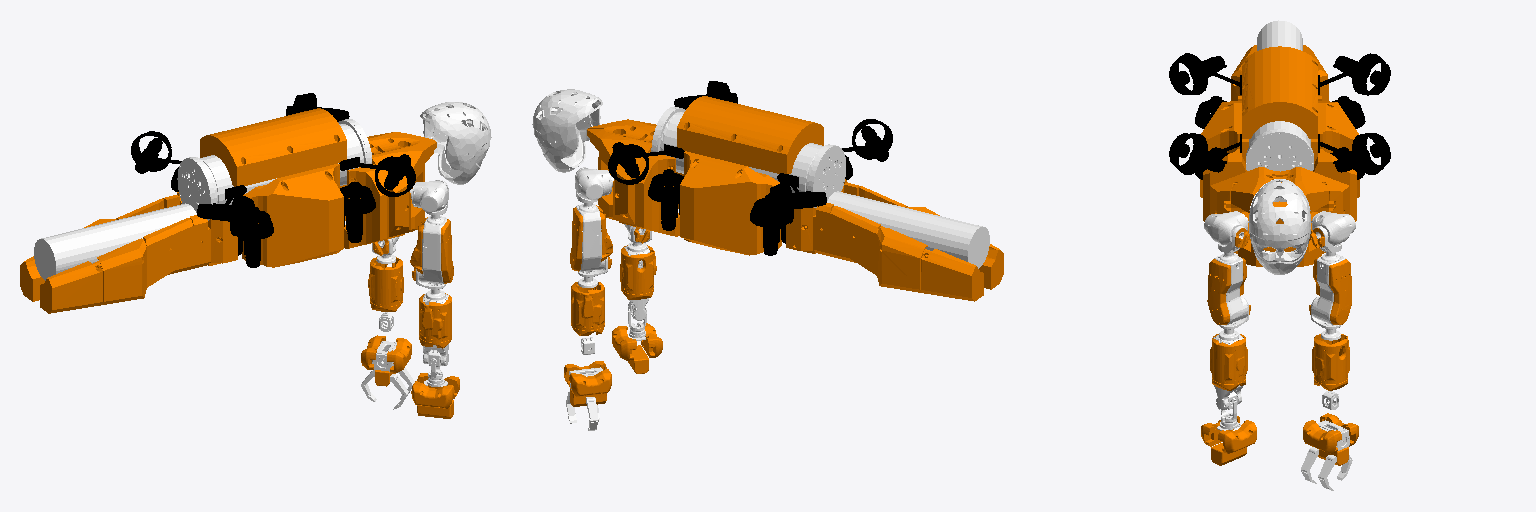
--- What the picture shows (computed from the rendered views, not written in the file) ---
3 views of the same robot in one strip: view 1: azimuth 30°, elevation 25°; view 2: azimuth 150°, elevation 25°; view 3: azimuth 270°, elevation 25° (orthographic).
Model panda with 37 links and 36 joints (17 revolute, 3 prismatic, 16 fixed), rooted at base_link, posed every joint at zero.
Visible links, largest first — view 1: base_link6f, base_link6, base_link6f1, left_link5f, right_link8f, right_link5f, left_link8f, right_link3, left_link8, right_link3f, right_link1; view 2: base_link6f, base_link6, base_link6f1, left_link5f, right_link5f, right_link8f, left_link8f, left_link3, left_link3f, left_link1, left_link8; view 3: base_link6f, base_link6, base_link6f1, left_link5f, right_link5f, right_link8f, left_link8f, right_link3f, left_link3f, left_link8, right_link1, left_link1 (+2 smaller).
Link boxes in pixels (left/top/right/bottom): base_link6f: left=20, top=108, right=436, bottom=313; base_link6: left=34, top=102, right=491, bottom=280; base_link6f1: left=131, top=93, right=415, bottom=267; left_link5f: left=368, top=257, right=403, bottom=311; right_link8f: left=411, top=373, right=459, bottom=418; right_link5f: left=419, top=293, right=451, bottom=348; left_link8f: left=361, top=335, right=411, bottom=386; right_link3: left=419, top=216, right=446, bottom=283; left_link8: left=361, top=341, right=414, bottom=409; right_link3f: left=410, top=217, right=453, bottom=283; right_link1: left=410, top=181, right=447, bottom=212; base_link6f: left=587, top=96, right=1003, bottom=301; base_link6: left=532, top=89, right=989, bottom=268; base_link6f1: left=608, top=81, right=892, bottom=255; left_link5f: left=571, top=282, right=604, bottom=335; right_link5f: left=620, top=245, right=656, bottom=299; right_link8f: left=612, top=323, right=662, bottom=373; left_link8f: left=564, top=361, right=611, bottom=406; left_link3: left=576, top=204, right=604, bottom=271; left_link3f: left=570, top=205, right=612, bottom=271; left_link1: left=576, top=169, right=613, bottom=199; left_link8: left=566, top=367, right=602, bottom=430; base_link6f: left=1200, top=45, right=1359, bottom=266; base_link6: left=1246, top=20, right=1313, bottom=274; base_link6f1: left=1169, top=53, right=1390, bottom=179; left_link5f: left=1312, top=334, right=1349, bottom=390; right_link5f: left=1210, top=334, right=1247, bottom=390; right_link8f: left=1201, top=416, right=1256, bottom=465; left_link8f: left=1303, top=413, right=1358, bottom=465; right_link3f: left=1207, top=258, right=1246, bottom=324; left_link3f: left=1313, top=258, right=1351, bottom=324; left_link8: left=1301, top=420, right=1352, bottom=490; right_link1: left=1204, top=211, right=1248, bottom=244; left_link1: left=1311, top=211, right=1355, bottom=244.
Size in the robot's own frame: 1.96 by 0.8057 by 1.36 metres.
Meshes: 29 distinct files referenced, 26 mesh visuals loaded (26 binary STL); not drawn: 3 (reference not matched to a file when rendering).

The robot description file, URDF, robot "panda":
<?xml version="1.0"?>
<robot name="panda" 
  xmlns:xacro="http://www.ros.org/wiki/xacro">
  <link name="base_link">
    <visual>
      <geometry>
        <box size="0.01 0.01 0.01"/>
      </geometry>
      <material name="blue"/>
    </visual>
    <collision>
      <geometry>
        <box size="0.01 0.01 0.01"/>
      </geometry>
      <material name="grey"/>
    </collision>
    <inertial>
      <mass value="0"/>
      <origin xyz="0 0 0" rpy="0 0 0"/>
      <inertia ixx="0.00001" ixy="0.0" ixz="0.0" iyy="0.00001" iyz="0.0" izz="0.00001"/>
    </inertial>
  </link>

  <link name="base_link1">
    <visual>
      <geometry>
        <sphere radius="0.02"/>
      </geometry>
      <material name="orange_transparent"/>
    </visual>
    <collision>
      <geometry>
        <sphere radius="0.02"/>
      </geometry>
      <material name="orange_transparent"/>
    </collision>
    <inertial>
      <mass value="0.001"/>
      <origin xyz="0 0 0" rpy="0 0 0"/>
      <inertia ixx="0.00001" ixy="0.0" ixz="0.0" iyy="0.00001" iyz="0.0" izz="0.00001"/>
    </inertial>
  </link>
  <joint name="base_joint1" type="prismatic">
    <safety_controller k_position="100.0" k_velocity="40.0" soft_lower_limit="-2.8973" soft_upper_limit="2.8973"/>
    <origin rpy="0 0 0" xyz="0 0 0"/>
    <parent link="base_link"/>
    <child link="base_link1"/>
    <axis xyz="1 0 0"/>
    <limit effort="87" lower="-2.8973" upper="2.8973" velocity="2.1750"/>
  </joint>

  <link name="base_link2">
    <visual>
      <geometry>
        <sphere radius="0.02"/>
      </geometry>
      <material name="orange_transparent"/>
    </visual>
    <collision>
      <geometry>
        <sphere radius="0.02"/>
      </geometry>
      <material name="orange_transparent"/>
    </collision>
    <inertial>
      <mass value="0.001"/>
      <origin xyz="0 0 0" rpy="0 0 0"/>
      <inertia ixx="0.00001" ixy="0.0" ixz="0.0" iyy="0.00001" iyz="0.0" izz="0.00001"/>
    </inertial>
  </link>
  <joint name="base_joint2" type="prismatic">
    <safety_controller k_position="100.0" k_velocity="40.0" soft_lower_limit="-2.8973" soft_upper_limit="2.8973"/>
    <origin rpy="0 0 0" xyz="0 0 0"/>
    <parent link="base_link1"/>
    <child link="base_link2"/>
    <axis xyz="0 1 0"/>
    <limit effort="87" lower="-2.8973" upper="2.8973" velocity="2.1750"/>
  </joint>

  <link name="base_link3">
    <visual>
      <geometry>
        <sphere radius="0.02"/>
      </geometry>
      <material name="orange_transparent"/>
    </visual>
    <collision>
      <geometry>
        <sphere radius="0.02"/>
      </geometry>
      <material name="orange_transparent"/>
    </collision>
    <inertial>
      <mass value="0.001"/>
      <origin xyz="0 0 0" rpy="0 0 0"/>
      <inertia ixx="0.00001" ixy="0.0" ixz="0.0" iyy="0.00001" iyz="0.0" izz="0.00001"/>
    </inertial>
  </link>
  <joint name="base_joint3" type="prismatic">
    <safety_controller k_position="100.0" k_velocity="40.0" soft_lower_limit="-2.8973" soft_upper_limit="2.8973"/>
    <origin rpy="0 0 0" xyz="0 0 0"/>
    <parent link="base_link2"/>
    <child link="base_link3"/>
    <axis xyz="0 0 1"/>
    <limit effort="87" lower="-2.8973" upper="2.8973" velocity="2.1750"/>
  </joint>

  <link name="base_link4">
    <visual>
      <geometry>
        <sphere radius="0.02"/>
      </geometry>
      <material name="orange_transparent"/>
    </visual>
    <collision>
      <geometry>
        <sphere radius="0.02"/>
      </geometry>
      <material name="orange_transparent"/>
    </collision>
    <inertial>
      <mass value="0.001"/>
      <origin xyz="0 0 0" rpy="0 0 0"/>
      <inertia ixx="0.00001" ixy="0.0" ixz="0.0" iyy="0.00001" iyz="0.0" izz="0.00001"/>
    </inertial>
  </link>
  <joint name="base_joint4" type="revolute">
    <safety_controller k_position="100.0" k_velocity="40.0" soft_lower_limit="-2.8973" soft_upper_limit="2.8973"/>
    <origin rpy="0 0 0" xyz="0 0 0"/>
    <parent link="base_link3"/>
    <child link="base_link4"/>
    <axis xyz="1 0 0"/>
    <limit effort="87" lower="-2.8973" upper="2.8973" velocity="2.1750"/>
  </joint>

  <link name="base_link5">
    <visual>
      <geometry>
        <sphere radius="0.02"/>
      </geometry>
      <material name="orange_transparent"/>
    </visual>
    <collision>
      <geometry>
        <sphere radius="0.02"/>
      </geometry>
      <material name="orange_transparent"/>
    </collision>
    <inertial>
      <mass value="0.001"/>
      <origin xyz="0 0 0" rpy="0 0 0"/>
      <inertia ixx="0.00001" ixy="0.0" ixz="0.0" iyy="0.00001" iyz="0.0" izz="0.00001"/>
    </inertial>
  </link>
  <joint name="base_joint5" type="revolute">
    <safety_controller k_position="100.0" k_velocity="40.0" soft_lower_limit="-2.8973" soft_upper_limit="2.8973"/>
    <origin rpy="0 0 0" xyz="0 0 0"/>
    <parent link="base_link4"/>
    <child link="base_link5"/>
    <axis xyz="0 1 0"/>
    <limit effort="87" lower="-2.8973" upper="2.8973" velocity="2.1750"/>
  </joint>

  <link name="base_link6">
    <visual>
      <geometry>
        <mesh filename="meshes/base_cylinder.stl"/>
      </geometry>
      <material name="grey"/>
    </visual>
    <collision>
      <geometry>
        <mesh filename="meshes/base_cylinder.stl"/>
      </geometry>
      <material name="grey"/>
    </collision>
    <inertial>
      <mass value="173.2"/>
      <origin xyz="0 0 0" rpy="0 0 0"/>
      <inertia ixx="5.45" ixy="0.474" ixz="2.51" iyy="41.54" iyz="0.108" izz="40.93"/>
    </inertial>
  </link>
  <joint name="base_joint6" type="revolute">
    <safety_controller k_position="100.0" k_velocity="40.0" soft_lower_limit="-2.8973" soft_upper_limit="2.8973"/>
    <origin rpy="0 0 0" xyz="0 0 0"/>
    <parent link="base_link5"/>
    <child link="base_link6"/>
    <axis xyz="0 0 1"/>
    <limit effort="87" lower="-2.8973" upper="2.8973" velocity="2.1750"/>
  </joint>

  <link name="base_link6f">
    <visual>
      <geometry>
        <mesh filename="meshes/base_foam.stl"/>
      </geometry>
      <material name="orange"/>
    </visual>
    <collision>
      <geometry>
        <mesh filename="meshes/base_foam.stl"/>
      </geometry>
      <material name="orange"/>
    </collision>
    <inertial>
      <mass value="0.001"/>
      <origin xyz="0 0 0" rpy="0 0 0"/>
      <inertia ixx="0.00001" ixy="0.0" ixz="0.0" iyy="0.00001" iyz="0.0" izz="0.00001"/>
    </inertial>
  </link>
  <joint name="base_fixed6f" type="fixed">
    <safety_controller k_position="100.0" k_velocity="40.0" soft_lower_limit="-2.8973" soft_upper_limit="2.8973"/>
    <origin rpy="0 0 0" xyz="0 0 0"/>
    <parent link="base_link6"/>
    <child link="base_link6f"/>
    <axis xyz="0 0 1"/>
    <limit effort="87" lower="-2.8973" upper="2.8973" velocity="2.1750"/>
  </joint>

  <link name="base_link6f1">
    <visual>
      <geometry>
        <mesh filename="meshes/base_thrusters.stl"/>
      </geometry>
      <material name="black"/>
    </visual>
    <collision>
      <geometry>
        <mesh filename="meshes/base_thrusters.stl"/>
      </geometry>
      <material name="black"/>
    </collision>
    <inertial>
      <mass value="0.001"/>
      <origin xyz="0 0 0" rpy="0 0 0"/>
      <inertia ixx="0.00001" ixy="0.0" ixz="0.0" iyy="0.00001" iyz="0.0" izz="0.00001"/>
    </inertial>
  </link>
  <joint name="base_fixed6f1" type="fixed">
    <safety_controller k_position="100.0" k_velocity="40.0" soft_lower_limit="-2.8973" soft_upper_limit="2.8973"/>
    <origin rpy="0 0 0" xyz="0 0 0"/>
    <parent link="base_link6f"/>
    <child link="base_link6f1"/>
    <axis xyz="0 0 1"/>
    <limit effort="87" lower="-2.8973" upper="2.8973" velocity="2.1750"/>
  </joint>

  <!-- ////////////////////////////////////RIGHT//////////////////////////////////// -->
  <link name="right_chassis">
    <visual>
      <geometry>
        <sphere radius="0.02"/>
      </geometry>
      <material name="red_transparent"/>
    </visual>
    <collision>
      <geometry>
        <sphere radius="0.02"/>
      </geometry>
      <material name="red_transparent"/>
    </collision>
    <inertial>
      <mass value="0.001"/>
      <origin xyz="0 0 0" rpy="0 0 0"/>
      <inertia ixx="0.00001" ixy="0.0" ixz="0.0" iyy="0.00001" iyz="0.0" izz="0.00001"/>
    </inertial>
  </link>
  <joint name="right_fixed_chassis" type="fixed">
    <safety_controller k_position="100.0" k_velocity="40.0" soft_lower_limit="-2.8973" soft_upper_limit="2.8973"/>
    <origin rpy="0 0 0.785398" xyz="0.58 -0.2 0"/>
    <parent link="base_link6"/>
    <child link="right_chassis"/>
    <axis xyz="0 0 1"/>
    <limit effort="87" lower="-2.8973" upper="2.8973" velocity="2.1750"/>
  </joint>

  <link name="right_link1">
    <visual>
      <geometry>
        <mesh filename="meshes/right_link1.stl"/>
      </geometry>
      <material name="grey"/>
    </visual>
    <collision>
      <geometry>
        <mesh filename="meshes/right_link1.stl"/>
      </geometry>
      <material name="grey"/>
    </collision>
    <inertial>
      <mass value="3.21"/>
      <origin xyz="0.000060 0.018000 -0.030000" rpy="0 0 0"/>
      <inertia ixx="0.006330" ixy="-0.000006" ixz="0.000003" iyy="0.005220" iyz="-0.000802" izz="0.003480"/>
    </inertial>
  </link>
  <joint name="right_joint1" type="revolute">
    <safety_controller k_position="100.0" k_velocity="40.0" soft_lower_limit="-2.8973" soft_upper_limit="2.8973"/>
    <origin rpy="0 1.5707963 -1.5707963" xyz="0 0 0"/>
    <parent link="right_chassis"/>
    <child link="right_link1"/>
    <axis xyz="0 0 1"/>
    <limit effort="87" lower="-2.8973" upper="2.8973" velocity="2.1750"/>
  </joint>

  <link name="right_link2">
    <visual>
      <geometry>
        <mesh filename="meshes/right_link2.stl"/>
      </geometry>
      <material name="grey"/>
    </visual>
    <collision>
      <geometry>
        <mesh filename="meshes/right_link2.stl"/>
      </geometry>
      <material name="grey"/>
    </collision>
    <inertial>
      <mass value="0.99"/>
      <origin xyz="-0.000070 -0.054100 -0.020980" rpy="0 0 0"/>
      <inertia ixx="0.002398" ixy="0.000019" ixz="-0.000008" iyy="0.001195" iyz="0.000886" izz="0.001878"/>
    </inertial>
  </link>
  <joint name="right_joint2" type="revolute">
    <safety_controller k_position="100.0" k_velocity="40.0" soft_lower_limit="-2.8973" soft_upper_limit="2.8973"/>
    <origin rpy="0 -1.5707963 1.5707963" xyz="0 0.0204332 0"/>
    <parent link="right_link1"/>
    <child link="right_link2"/>
    <axis xyz="0 0 1"/>
    <limit effort="87" lower="-2.8973" upper="2.8973" velocity="2.1750"/>
  </joint>

  <link name="right_link3">
    <visual>
      <geometry>
        <mesh filename="meshes/right_link3.stl"/>
      </geometry>
      <material name="grey"/>
    </visual>
    <collision>
      <geometry>
        <mesh filename="meshes/right_link3.stl"/>
      </geometry>
      <material name="grey"/>
    </collision>
    <inertial>
      <mass value="5.11"/>
      <origin xyz="0.008960 0.013300 -0.092400" rpy="0 0 0"/>
      <inertia ixx="0.019800" ixy="-0.000151" ixz="0.000153" iyy="0.018700" iyz="-0.001380" izz="0.005560"/>
    </inertial>
  </link>
  <joint name="right_joint3" type="revolute">
    <safety_controller k_position="100.0" k_velocity="40.0" soft_lower_limit="-2.8973" soft_upper_limit="2.8973"/>
    <origin rpy="1.5707963 -1.5707963 0" xyz="0 -0.3231333 0"/>
    <parent link="right_link2"/>
    <child link="right_link3"/>
    <axis xyz="0 0 1"/>
    <limit effort="87" lower="-2.8973" upper="2.8973" velocity="2.1750"/>
  </joint>

  <link name="right_link4">
    <visual>
      <geometry>
        <mesh filename="meshes/right_link4.stl"/>
      </geometry>
      <material name="grey"/>
    </visual>
    <collision>
      <geometry>
        <mesh filename="meshes/right_link4.stl"/>
      </geometry>
      <material name="grey"/>
    </collision>
    <inertial>
      <mass value="0.974"/>
      <origin xyz="-0.000980 0.047130 -0.027200" rpy="0 0 0"/>
      <inertia ixx="0.002374" ixy="0.000025" ixz="0.000006" iyy="0.001407" iyz="-0.000920" izz="0.001613"/>
    </inertial>
  </link>
  <joint name="right_joint4" type="revolute">
    <safety_controller k_position="100.0" k_velocity="40.0" soft_lower_limit="-2.8973" soft_upper_limit="2.8973"/>
    <origin rpy="1.5707963 0 0" xyz="0 0.0 0"/>
    <parent link="right_link3"/>
    <child link="right_link4"/>
    <axis xyz="0 0 1"/>
    <limit effort="87" lower="-2.8973" upper="2.8973" velocity="2.1750"/>
  </joint>

  <link name="right_link5">
    <visual>
      <geometry>
        <mesh filename="meshes/right_link5.stl"/>
      </geometry>
      <material name="grey"/>
    </visual>
    <collision>
      <geometry>
        <mesh filename="meshes/right_link5.stl"/>
      </geometry>
      <material name="grey"/>
    </collision>
    <inertial>
      <mass value="3.733"/>
      <origin xyz="0.001980 0.000500 -0.160000" rpy="0 0 0"/>
      <inertia ixx="0.017000" ixy="-0.000058" ixz="0.000177" iyy="0.017700" iyz="0.000080" izz="0.005250"/>
    </inertial>
  </link>
  <joint name="right_joint5" type="revolute">
    <safety_controller k_position="100.0" k_velocity="40.0" soft_lower_limit="-2.8973" soft_upper_limit="2.8973"/>
    <origin rpy="-1.5707963 0 0" xyz="0 0.3579778 0"/>
    <parent link="right_link4"/>
    <child link="right_link5"/>
    <axis xyz="0 0 1"/>
    <limit effort="87" lower="-2.8973" upper="2.8973" velocity="2.1750"/>
  </joint>

  <link name="right_link6">
    <visual>
      <geometry>
        <mesh filename="meshes/right_link6.stl"/>
      </geometry>
      <material name="grey"/>
    </visual>
    <collision>
      <geometry>
        <mesh filename="meshes/right_link6.stl"/>
      </geometry>
      <material name="grey"/>
    </collision>
    <inertial>
      <mass value="0.3"/>
      <origin xyz="0.000000 -0.003430 -0.000010" rpy="0 0 0"/>
      <inertia ixx="0.000115" ixy="-0.000000" ixz="-0.000000" iyy="0.000128" iyz="0.000000" izz="0.000123"/>
    </inertial>
  </link>
  <joint name="right_joint6" type="revolute">
    <safety_controller k_position="100.0" k_velocity="40.0" soft_lower_limit="-2.8973" soft_upper_limit="2.8973"/>
    <origin rpy="0 -1.5707963 1.5707963" xyz="0 0 0"/>
    <parent link="right_link5"/>
    <child link="right_link6"/>
    <axis xyz="0 0 1"/>
    <limit effort="87" lower="-2.8973" upper="2.8973" velocity="2.1750"/>
  </joint>

  <link name="right_link7">
    <visual>
      <geometry>
        <mesh filename="meshes/right_link7.stl"/>
      </geometry>
      <material name="grey"/>
    </visual>
    <collision>
      <geometry>
        <mesh filename="meshes/right_link7.stl"/>
      </geometry>
      <material name="grey"/>
    </collision>
    <inertial>
      <mass value="0.387"/>
      <origin xyz="-0.000160 -0.077160 0.000470" rpy="0 0 0"/>
      <inertia ixx="0.000456" ixy="0.000000" ixz="-0.000000" iyy="0.000195" iyz="-0.000014" izz="0.000417"/>
    </inertial>
  </link>
  <joint name="right_joint7" type="revolute">
    <safety_controller k_position="100.0" k_velocity="40.0" soft_lower_limit="-2.8973" soft_upper_limit="2.8973"/>
    <origin rpy="0 -1.5707963 1.5707963" xyz="0 0 0"/>
    <parent link="right_link6"/>
    <child link="right_link7"/>
    <axis xyz="0 0 1"/>
    <limit effort="87" lower="-2.8973" upper="2.8973" velocity="2.1750"/>
  </joint>

  <link name="right_link8">
    <visual>
      <geometry>
        <mesh filename="meshes/right_link8.stl"/>
      </geometry>
      <material name="grey"/>
    </visual>
    <collision>
      <geometry>
        <mesh filename="meshes/right_link8.stl"/>
      </geometry>
      <material name="grey"/>
    </collision>
    <inertial>
      <mass value="2.5"/>
      <origin xyz="0.000000 0.000000 -0.095000" rpy="0 0 0"/>
      <inertia ixx="0.001158" ixy="0.000000" ixz="0.000000" iyy="0.001708" iyz="0.000000" izz="0.002207"/>
    </inertial>
  </link>
  <joint name="right_fixed8" type="fixed">
    <safety_controller k_position="100.0" k_velocity="40.0" soft_lower_limit="-2.8973" soft_upper_limit="2.8973"/>
    <origin rpy="1.5707963 0 0" xyz="0 -0.23675 0"/>
    <parent link="right_link7"/>
    <child link="right_link8"/>
    <axis xyz="0 0 1"/>
    <limit effort="87" lower="-2.8973" upper="2.8973" velocity="2.1750"/>
  </joint>

  <link name="right_link2f">
    <visual>
      <geometry>
        <mesh filename="meshes/right_link2f.stl"/>
      </geometry>
      <material name="orange"/>
    </visual>
    <collision>
      <geometry>
        <mesh filename="meshes/right_link2.stl"/>
      </geometry>
      <material name="orange"/>
    </collision>
    <inertial>
      <mass value="0.001"/>
      <origin xyz="0 0 0" rpy="0 0 0"/>
      <inertia ixx="0.00001" ixy="0.0" ixz="0.0" iyy="0.00001" iyz="0.0" izz="0.00001"/>
    </inertial>
  </link>
  <joint name="right_fixed2f" type="fixed">
    <safety_controller k_position="100.0" k_velocity="40.0" soft_lower_limit="-2.8973" soft_upper_limit="2.8973"/>
    <origin rpy="0 0 0" xyz="0 0 0"/>
    <parent link="right_link2"/>
    <child link="right_link2f"/>
    <axis xyz="0 0 1"/>
    <limit effort="87" lower="-2.8973" upper="2.8973" velocity="2.1750"/>
  </joint>

  <link name="right_link3f">
    <visual>
      <geometry>
        <mesh filename="meshes/right_link3f.stl"/>
      </geometry>
      <material name="orange"/>
    </visual>
    <collision>
      <geometry>
        <mesh filename="meshes/right_link3f.stl"/>
      </geometry>
      <material name="orange"/>
    </collision>
    <inertial>
      <mass value="0.001"/>
      <origin xyz="0 0 0" rpy="0 0 0"/>
      <inertia ixx="0.00001" ixy="0.0" ixz="0.0" iyy="0.00001" iyz="0.0" izz="0.00001"/>
    </inertial>
  </link>
  <joint name="right_fixed3f" type="fixed">
    <safety_controller k_position="100.0" k_velocity="40.0" soft_lower_limit="-2.8973" soft_upper_limit="2.8973"/>
    <origin rpy="0 0 0" xyz="0 0 0"/>
    <parent link="right_link3"/>
    <child link="right_link3f"/>
    <axis xyz="0 0 1"/>
    <limit effort="87" lower="-2.8973" upper="2.8973" velocity="2.1750"/>
  </joint>

  <link name="right_link4f">
    <visual>
      <geometry>
        <mesh filename="meshes/right_link4f.stl"/>
      </geometry>
      <material name="orange"/>
    </visual>
    <collision>
      <geometry>
        <mesh filename="meshes/right_link4f.stl"/>
      </geometry>
      <material name="orange"/>
    </collision>
    <inertial>
      <mass value="0.001"/>
      <origin xyz="0 0 0" rpy="0 0 0"/>
      <inertia ixx="0.00001" ixy="0.0" ixz="0.0" iyy="0.00001" iyz="0.0" izz="0.00001"/>
    </inertial>
  </link>
  <joint name="right_fixed4f" type="fixed">
    <safety_controller k_position="100.0" k_velocity="40.0" soft_lower_limit="-2.8973" soft_upper_limit="2.8973"/>
    <origin rpy="0 0 0" xyz="0 0 0"/>
    <parent link="right_link4"/>
    <child link="right_link4f"/>
    <axis xyz="0 0 1"/>
    <limit effort="87" lower="-2.8973" upper="2.8973" velocity="2.1750"/>
  </joint>

  <link name="right_link5f">
    <visual>
      <geometry>
        <mesh filename="meshes/right_link5f.stl"/>
      </geometry>
      <material name="orange"/>
    </visual>
    <collision>
      <geometry>
        <mesh filename="meshes/right_link5f.stl"/>
      </geometry>
      <material name="orange"/>
    </collision>
    <inertial>
      <mass value="0.001"/>
      <origin xyz="0 0 0" rpy="0 0 0"/>
      <inertia ixx="0.00001" ixy="0.0" ixz="0.0" iyy="0.00001" iyz="0.0" izz="0.00001"/>
    </inertial>
  </link>
  <joint name="right_fixed5f" type="fixed">
    <safety_controller k_position="100.0" k_velocity="40.0" soft_lower_limit="-2.8973" soft_upper_limit="2.8973"/>
    <origin rpy="0 0 0" xyz="0 0 0"/>
    <parent link="right_link5"/>
    <child link="right_link5f"/>
    <axis xyz="0 0 1"/>
    <limit effort="87" lower="-2.8973" upper="2.8973" velocity="2.1750"/>
  </joint>

  <link name="right_link8f">
    <visual>
      <geometry>
        <mesh filename="meshes/right_link8f.stl"/>
      </geometry>
      <material name="orange"/>
    </visual>
    <collision>
      <geometry>
        <mesh filename="meshes/right_link8f.stl"/>
      </geometry>
      <material name="orange"/>
    </collision>
    <inertial>
      <mass value="0.001"/>
      <origin xyz="0 0 0" rpy="0 0 0"/>
      <inertia ixx="0.00001" ixy="0.0" ixz="0.0" iyy="0.00001" iyz="0.0" izz="0.00001"/>
    </inertial>
  </link>
  <joint name="right_fixed8f" type="fixed">
    <safety_controller k_position="100.0" k_velocity="40.0" soft_lower_limit="-2.8973" soft_upper_limit="2.8973"/>
    <origin rpy="0 0 0" xyz="0 0 0"/>
    <parent link="right_link8"/>
    <child link="right_link8f"/>
    <axis xyz="0 0 1"/>
    <limit effort="87" lower="-2.8973" upper="2.8973" velocity="2.1750"/>
  </joint>

  <!-- ////////////////////////////////////LEFT//////////////////////////////////// -->
  <link name="left_chassis">
    <visual>
      <geometry>
        <sphere radius="0.02"/>
      </geometry>
      <material name="red_transparent"/>
    </visual>
    <collision>
      <geometry>
        <sphere radius="0.02"/>
      </geometry>
      <material name="red_transparent"/>
    </collision>
    <inertial>
      <mass value="0.001"/>
      <origin xyz="0 0 0" rpy="0 0 0"/>
      <inertia ixx="0.00001" ixy="0.0" ixz="0.0" iyy="0.00001" iyz="0.0" izz="0.00001"/>
    </inertial>
  </link>
  <joint name="left_fixed_chassis" type="fixed">
    <safety_controller k_position="100.0" k_velocity="40.0" soft_lower_limit="-2.8973" soft_upper_limit="2.8973"/>
    <origin rpy="0 0 -0.785398" xyz="0.58 0.2 0"/>
    <parent link="base_link6"/>
    <child link="left_chassis"/>
    <axis xyz="0 0 1"/>
    <limit effort="87" lower="-2.8973" upper="2.8973" velocity="2.1750"/>
  </joint>

  <link name="left_link1">
    <visual>
      <geometry>
        <mesh filename="meshes/left_link1.stl"/>
      </geometry>
      <material name="grey"/>
    </visual>
    <collision>
      <geometry>
        <mesh filename="meshes/left_link1.stl"/>
      </geometry>
      <material name="grey"/>
    </collision>
    <inertial>
      <mass value="3.21"/>
      <origin xyz="0.000060 0.018000 0.030000" rpy="0 0 0"/>
      <inertia ixx="0.006330" ixy="-0.000006" ixz="-0.000003" iyy="0.005220" iyz="0.000802" izz="0.003480"/>
    </inertial>
  </link>
  <joint name="left_joint1" type="revolute">
    <safety_controller k_position="100.0" k_velocity="40.0" soft_lower_limit="-2.8973" soft_upper_limit="2.8973"/>
    <origin rpy="0 1.5707963 -1.5707963" xyz="0 0 0"/>
    <parent link="left_chassis"/>
    <child link="left_link1"/>
    <axis xyz="0 0 1"/>
    <limit effort="87" lower="-2.8973" upper="2.8973" velocity="2.1750"/>
  </joint>

  <link name="left_link2">
    <visual>
      <geometry>
        <mesh filename="meshes/left_link2.stl"/>
      </geometry>
      <material name="grey"/>
    </visual>
    <collision>
      <geometry>
        <mesh filename="meshes/left_link2.stl"/>
      </geometry>
      <material name="grey"/>
    </collision>
    <inertial>
      <mass value="0.99"/>
      <origin xyz="0.000070 -0.054100 -0.020980" rpy="0 0 0"/>
      <inertia ixx="0.002398" ixy="-0.000019" ixz="0.000008" iyy="0.001195" iyz="0.000886" izz="0.001878"/>
    </inertial>
  </link>
  <joint name="left_joint2" type="revolute">
    <safety_controller k_position="100.0" k_velocity="40.0" soft_lower_limit="-2.8973" soft_upper_limit="2.8973"/>
    <origin rpy="0 -1.5707963 1.5707963" xyz="0 0.0204332 0"/>
    <parent link="left_link1"/>
    <child link="left_link2"/>
    <axis xyz="0 0 1"/>
    <limit effort="87" lower="-2.8973" upper="2.8973" velocity="2.1750"/>
  </joint>

  <link name="left_link3">
    <visual>
      <geometry>
        <mesh filename="meshes/left_link3.stl"/>
      </geometry>
      <material name="grey"/>
    </visual>
    <collision>
      <geometry>
        <mesh filename="meshes/left_link3.stl"/>
      </geometry>
      <material name="grey"/>
    </collision>
    <inertial>
      <mass value="5.11"/>
      <origin xyz="0.008960 -0.013300 -0.092400" rpy="0 0 0"/>
      <inertia ixx="0.019800" ixy="0.000151" ixz="0.000153" iyy="0.018700" iyz="0.001380" izz="0.005560"/>
    </inertial>
  </link>
  <joint name="left_joint3" type="revolute">
    <safety_controller k_position="100.0" k_velocity="40.0" soft_lower_limit="-2.8973" soft_upper_limit="2.8973"/>
    <origin rpy="1.5707963 -1.5707963 0" xyz="0 -0.3231333 0"/>
    <parent link="left_link2"/>
    <child link="left_link3"/>
    <axis xyz="0 0 1"/>
    <limit effort="87" lower="-2.8973" upper="2.8973" velocity="2.1750"/>
  </joint>

  <link name="left_link4">
    <visual>
      <geometry>
        <mesh filename="meshes/left_link4.stl"/>
      </geometry>
      <material name="grey"/>
    </visual>
    <collision>
      <geometry>
        <mesh filename="meshes/left_link4.stl"/>
      </geometry>
      <material name="grey"/>
    </collision>
    <inertial>
      <mass value="0.974"/>
      <origin xyz="-0.000980 0.047130 0.027200" rpy="0 0 0"/>
      <inertia ixx="0.002374" ixy="0.000025" ixz="-0.000006" iyy="0.001407" iyz="0.000920" izz="0.001613"/>
    </inertial>
  </link>
  <joint name="left_joint4" type="revolute">
    <safety_controller k_position="100.0" k_velocity="40.0" soft_lower_limit="-2.8973" soft_upper_limit="2.8973"/>
    <origin rpy="1.5707963 0 0" xyz="0 0.0 0"/>
    <parent link="left_link3"/>
    <child link="left_link4"/>
    <axis xyz="0 0 1"/>
    <limit effort="87" lower="-2.8973" upper="2.8973" velocity="2.1750"/>
  </joint>

  <link name="left_link5">
    <visual>
      <geometry>
        <mesh filename="meshes/left_link5.stl"/>
      </geometry>
      <material name="grey"/>
    </visual>
    <collision>
      <geometry>
        <mesh filename="meshes/left_link5.stl"/>
      </geometry>
      <material name="grey"/>
    </collision>
    <inertial>
      <mass value="3.733"/>
      <origin xyz="0.001980 -0.000500 -0.160000" rpy="0 0 0"/>
      <inertia ixx="0.017000" ixy="0.000058" ixz="0.000177" iyy="0.017700" iyz="-0.000080" izz="0.005250"/>
    </inertial>
  </link>
  <joint name="left_joint5" type="revolute">
    <safety_controller k_position="100.0" k_velocity="40.0" soft_lower_limit="-2.8973" soft_upper_limit="2.8973"/>
    <origin rpy="-1.5707963 0 0" xyz="0 0.3579778 0"/>
    <parent link="left_link4"/>
    <child link="left_link5"/>
    <axis xyz="0 0 1"/>
    <limit effort="87" lower="-2.8973" upper="2.8973" velocity="2.1750"/>
  </joint>

  <link name="left_link6">
    <visual>
      <geometry>
        <mesh filename="meshes/left_link6.stl"/>
      </geometry>
      <material name="grey"/>
    </visual>
    <collision>
      <geometry>
        <mesh filename="meshes/left_link6.stl"/>
      </geometry>
      <material name="grey"/>
    </collision>
    <inertial>
      <mass value="0.3"/>
      <origin xyz="0.000000 -0.003430 0.000010" rpy="0 0 0"/>
      <inertia ixx="0.000115" ixy="-0.000000" ixz="0.000000" iyy="0.000128" iyz="-0.000000" izz="0.000123"/>
    </inertial>
  </link>
  <joint name="left_joint6" type="revolute">
    <safety_controller k_position="100.0" k_velocity="40.0" soft_lower_limit="-2.8973" soft_upper_limit="2.8973"/>
    <origin rpy="0 -1.5707963 1.5707963" xyz="0 0 0"/>
    <parent link="left_link5"/>
    <child link="left_link6"/>
    <axis xyz="0 0 1"/>
    <limit effort="87" lower="-2.8973" upper="2.8973" velocity="2.1750"/>
  </joint>

  <link name="left_link7">
    <visual>
      <geometry>
        <mesh filename="meshes/left_link7.stl"/>
      </geometry>
      <material name="grey"/>
    </visual>
    <collision>
      <geometry>
        <mesh filename="meshes/left_link7.stl"/>
      </geometry>
      <material name="grey"/>
    </collision>
    <inertial>
      <mass value="0.387"/>
      <origin xyz="0.000160 -0.077160 0.000470" rpy="0 0 0"/>
      <inertia ixx="0.000456" ixy="-0.000000" ixz="0.000000" iyy="0.000195" iyz="-0.000014" izz="0.000417"/>
    </inertial>
  </link>
  <joint name="left_joint7" type="revolute">
    <safety_controller k_position="100.0" k_velocity="40.0" soft_lower_limit="-2.8973" soft_upper_limit="2.8973"/>
    <origin rpy="0 -1.5707963 1.5707963" xyz="0 0 0"/>
    <parent link="left_link6"/>
    <child link="left_link7"/>
    <axis xyz="0 0 1"/>
    <limit effort="87" lower="-2.8973" upper="2.8973" velocity="2.1750"/>
  </joint>

  <link name="left_link8">
    <visual>
      <geometry>
        <mesh filename="meshes/left_link8.stl"/>
      </geometry>
      <material name="grey"/>
    </visual>
    <collision>
      <geometry>
        <mesh filename="meshes/left_link8.stl"/>
      </geometry>
      <material name="grey"/>
    </collision>
    <inertial>
      <mass value="2.5"/>
      <origin xyz="-0.000000 0.000000 -0.095000" rpy="0 0 0"/>
      <inertia ixx="0.001158" ixy="0.000000" ixz="0.000000" iyy="0.001708" iyz="0.000000" izz="0.002207"/>
    </inertial>
  </link>
  <joint name="left_fixed8" type="fixed">
    <safety_controller k_position="100.0" k_velocity="40.0" soft_lower_limit="-2.8973" soft_upper_limit="2.8973"/>
    <origin rpy="1.5707963 0 0" xyz="0 -0.23675 0"/>
    <parent link="left_link7"/>
    <child link="left_link8"/>
    <axis xyz="0 0 1"/>
    <limit effort="87" lower="-2.8973" upper="2.8973" velocity="2.1750"/>
  </joint>

  <link name="left_link2f">
    <visual>
      <geometry>
        <mesh filename="meshes/left_link2f.stl"/>
      </geometry>
      <material name="orange"/>
    </visual>
    <collision>
      <geometry>
        <mesh filename="meshes/left_link2.stl"/>
      </geometry>
      <material name="orange"/>
    </collision>
    <inertial>
      <mass value="0.001"/>
      <origin xyz="0 0 0" rpy="0 0 0"/>
      <inertia ixx="0.00001" ixy="0.0" ixz="0.0" iyy="0.00001" iyz="0.0" izz="0.00001"/>
    </inertial>
  </link>
  <joint name="left_fixed2f" type="fixed">
    <safety_controller k_position="100.0" k_velocity="40.0" soft_lower_limit="-2.8973" soft_upper_limit="2.8973"/>
    <origin rpy="0 0 0" xyz="0 0 0"/>
    <parent link="left_link2"/>
    <child link="left_link2f"/>
    <axis xyz="0 0 1"/>
    <limit effort="87" lower="-2.8973" upper="2.8973" velocity="2.1750"/>
  </joint>

  <link name="left_link3f">
    <visual>
      <geometry>
        <mesh filename="meshes/left_link3f.stl"/>
      </geometry>
      <material name="orange"/>
    </visual>
    <collision>
      <geometry>
        <mesh filename="meshes/left_link3f.stl"/>
      </geometry>
      <material name="orange"/>
    </collision>
    <inertial>
      <mass value="0.001"/>
      <origin xyz="0 0 0" rpy="0 0 0"/>
      <inertia ixx="0.00001" ixy="0.0" ixz="0.0" iyy="0.00001" iyz="0.0" izz="0.00001"/>
    </inertial>
  </link>
  <joint name="left_fixed3f" type="fixed">
    <safety_controller k_position="100.0" k_velocity="40.0" soft_lower_limit="-2.8973" soft_upper_limit="2.8973"/>
    <origin rpy="0 0 0" xyz="0 0 0"/>
    <parent link="left_link3"/>
    <child link="left_link3f"/>
    <axis xyz="0 0 1"/>
    <limit effort="87" lower="-2.8973" upper="2.8973" velocity="2.1750"/>
  </joint>

  <link name="left_link4f">
    <visual>
      <geometry>
        <mesh filename="meshes/left_link4f.stl"/>
      </geometry>
      <material name="orange"/>
    </visual>
    <collision>
      <geometry>
        <mesh filename="meshes/left_link4f.stl"/>
      </geometry>
      <material name="orange"/>
    </collision>
    <inertial>
      <mass value="0.001"/>
      <origin xyz="0 0 0" rpy="0 0 0"/>
      <inertia ixx="0.00001" ixy="0.0" ixz="0.0" iyy="0.00001" iyz="0.0" izz="0.00001"/>
    </inertial>
  </link>
  <joint name="left_fixed4f" type="fixed">
    <safety_controller k_position="100.0" k_velocity="40.0" soft_lower_limit="-2.8973" soft_upper_limit="2.8973"/>
    <origin rpy="0 0 0" xyz="0 0 0"/>
    <parent link="left_link4"/>
    <child link="left_link4f"/>
    <axis xyz="0 0 1"/>
    <limit effort="87" lower="-2.8973" upper="2.8973" velocity="2.1750"/>
  </joint>

  <link name="left_link5f">
    <visual>
      <geometry>
        <mesh filename="meshes/left_link5f.stl"/>
      </geometry>
      <material name="orange"/>
    </visual>
    <collision>
      <geometry>
        <mesh filename="meshes/left_link5f.stl"/>
      </geometry>
      <material name="orange"/>
    </collision>
    <inertial>
      <mass value="0.001"/>
      <origin xyz="0 0 0" rpy="0 0 0"/>
      <inertia ixx="0.00001" ixy="0.0" ixz="0.0" iyy="0.00001" iyz="0.0" izz="0.00001"/>
    </inertial>
  </link>
  <joint name="left_fixed5f" type="fixed">
    <safety_controller k_position="100.0" k_velocity="40.0" soft_lower_limit="-2.8973" soft_upper_limit="2.8973"/>
    <origin rpy="0 0 0" xyz="0 0 0"/>
    <parent link="left_link5"/>
    <child link="left_link5f"/>
    <axis xyz="0 0 1"/>
    <limit effort="87" lower="-2.8973" upper="2.8973" velocity="2.1750"/>
  </joint>

  <link name="left_link8f">
    <visual>
      <geometry>
        <mesh filename="meshes/left_link8f.stl"/>
      </geometry>
      <material name="orange"/>
    </visual>
    <collision>
      <geometry>
        <mesh filename="meshes/left_link8f.stl"/>
      </geometry>
      <material name="orange"/>
    </collision>
    <inertial>
      <mass value="0.001"/>
      <origin xyz="0 0 0" rpy="0 0 0"/>
      <inertia ixx="0.00001" ixy="0.0" ixz="0.0" iyy="0.00001" iyz="0.0" izz="0.00001"/>
    </inertial>
  </link>
  <joint name="left_fixed8f" type="fixed">
    <safety_controller k_position="100.0" k_velocity="40.0" soft_lower_limit="-2.8973" soft_upper_limit="2.8973"/>
    <origin rpy="0 0 0" xyz="0 0 0"/>
    <parent link="left_link8"/>
    <child link="left_link8f"/>
    <axis xyz="0 0 1"/>
    <limit effort="87" lower="-2.8973" upper="2.8973" velocity="2.1750"/>
  </joint>


  <material name="black">
    <color rgba="0 0 0 1"/>
  </material>
  <material name="hidden">
    <color rgba="0 0 0 0"/>
  </material>
  <material name="orange">
    <color rgba="1. 0.55 0. 1."/>
  </material>
  <material name="orange_transparent">
    <color rgba="1. 0.55 0. 0"/>
  </material>
  <material name="red">
    <color rgba="1. 0. 0. 1."/>
  </material>
  <material name="red_transparent">
    <color rgba="1. 0. 0. 0.5"/>
  </material>
  <material name="blue">
    <color rgba="0. 0. 1. 1"/>
  </material>
  <material name="grey">
    <color rgba="1. 1. 1. 1"/>
  </material>
</robot>
